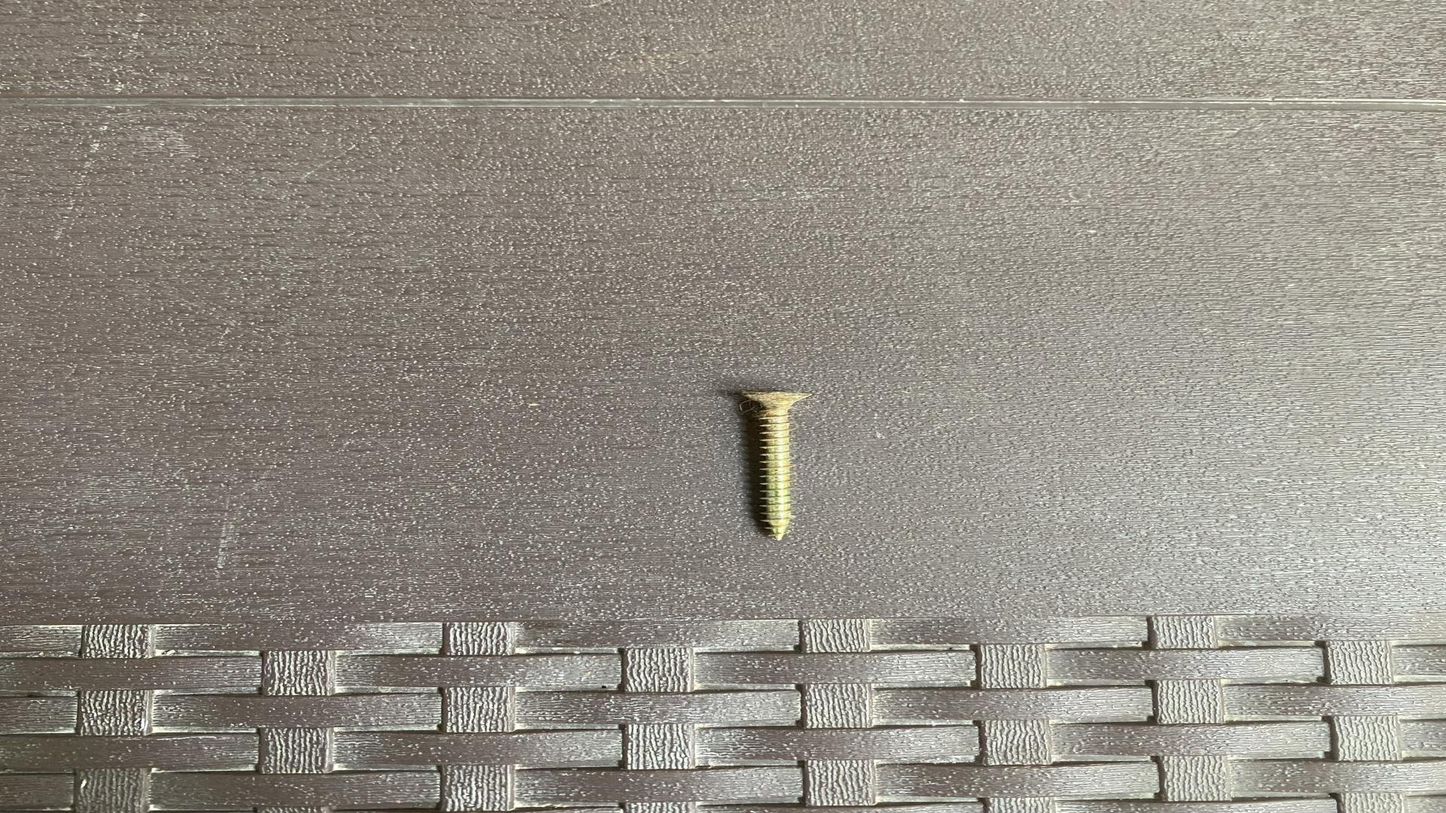screw: (681, 374, 868, 561)
